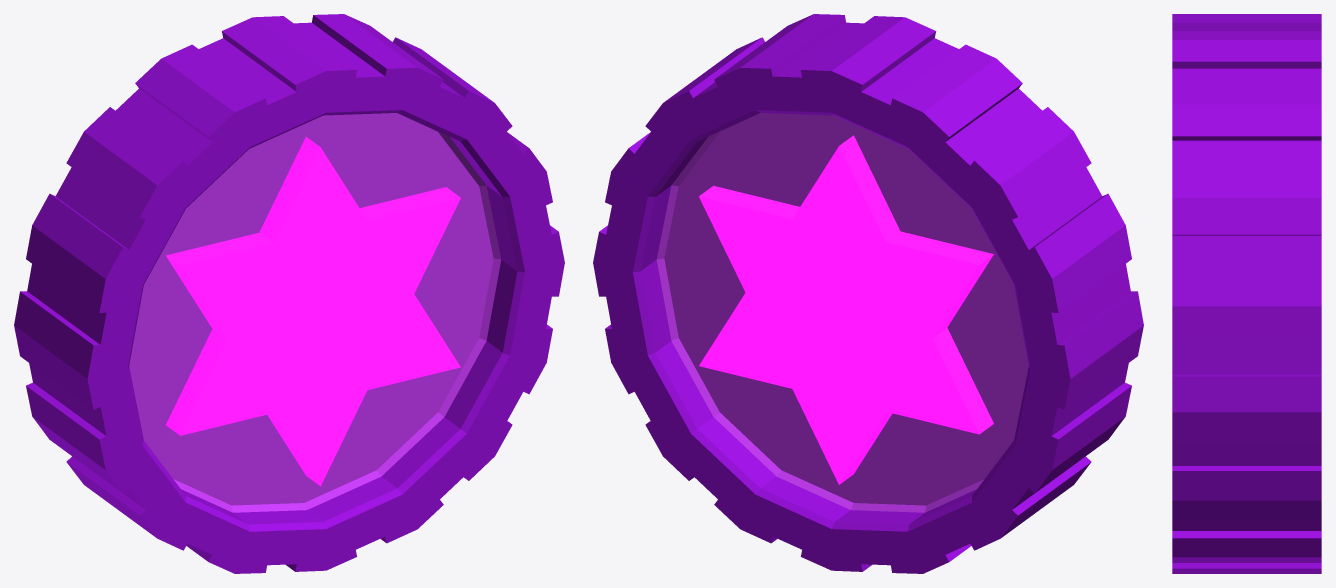
File: Prem_Coin.fbx
3 renders of one model, left to right at view 1: azimuth 30°, elevation 25°; view 2: azimuth 150°, elevation 25°; view 3: azimuth 270°, elevation 25°, orthographic.
Parts seen in each view (by area): view 1: Prem_Coin; view 2: Prem_Coin; view 3: Prem_Coin.
Part boxes in pixels (bbox=[...]): Prem_Coin: bbox=[14, 14, 564, 573]; Prem_Coin: bbox=[593, 14, 1143, 573]; Prem_Coin: bbox=[1172, 14, 1321, 573].
Bounding box in the file's own units: 150 × 150 × 40.03.
